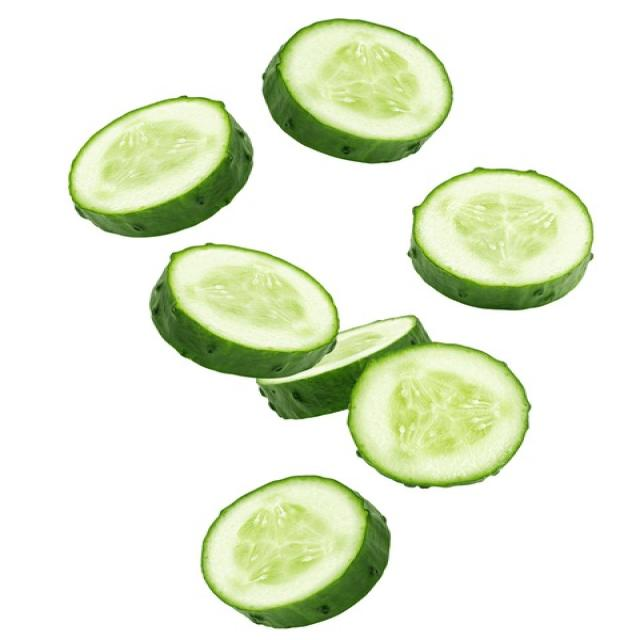Pickle: (202, 476, 389, 628), (262, 20, 452, 162), (348, 342, 530, 487), (409, 169, 592, 309), (69, 98, 253, 236), (150, 244, 339, 378), (356, 345, 528, 484), (152, 245, 319, 374), (258, 316, 430, 419)
